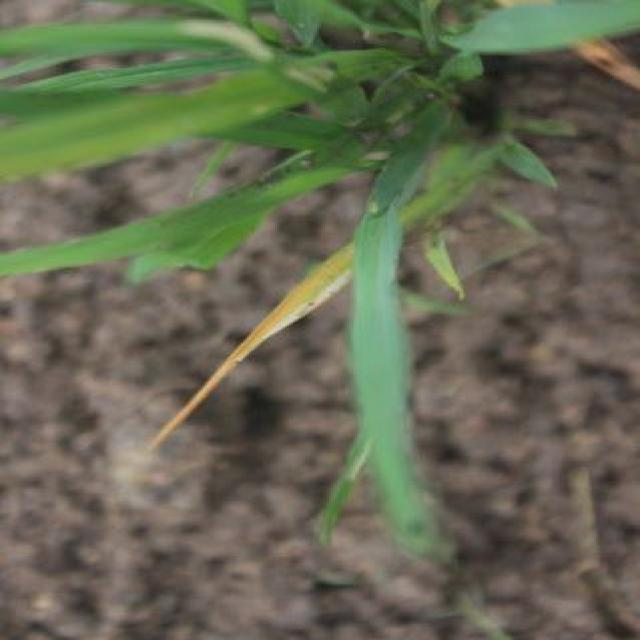Tungro: (161, 239, 388, 438)
